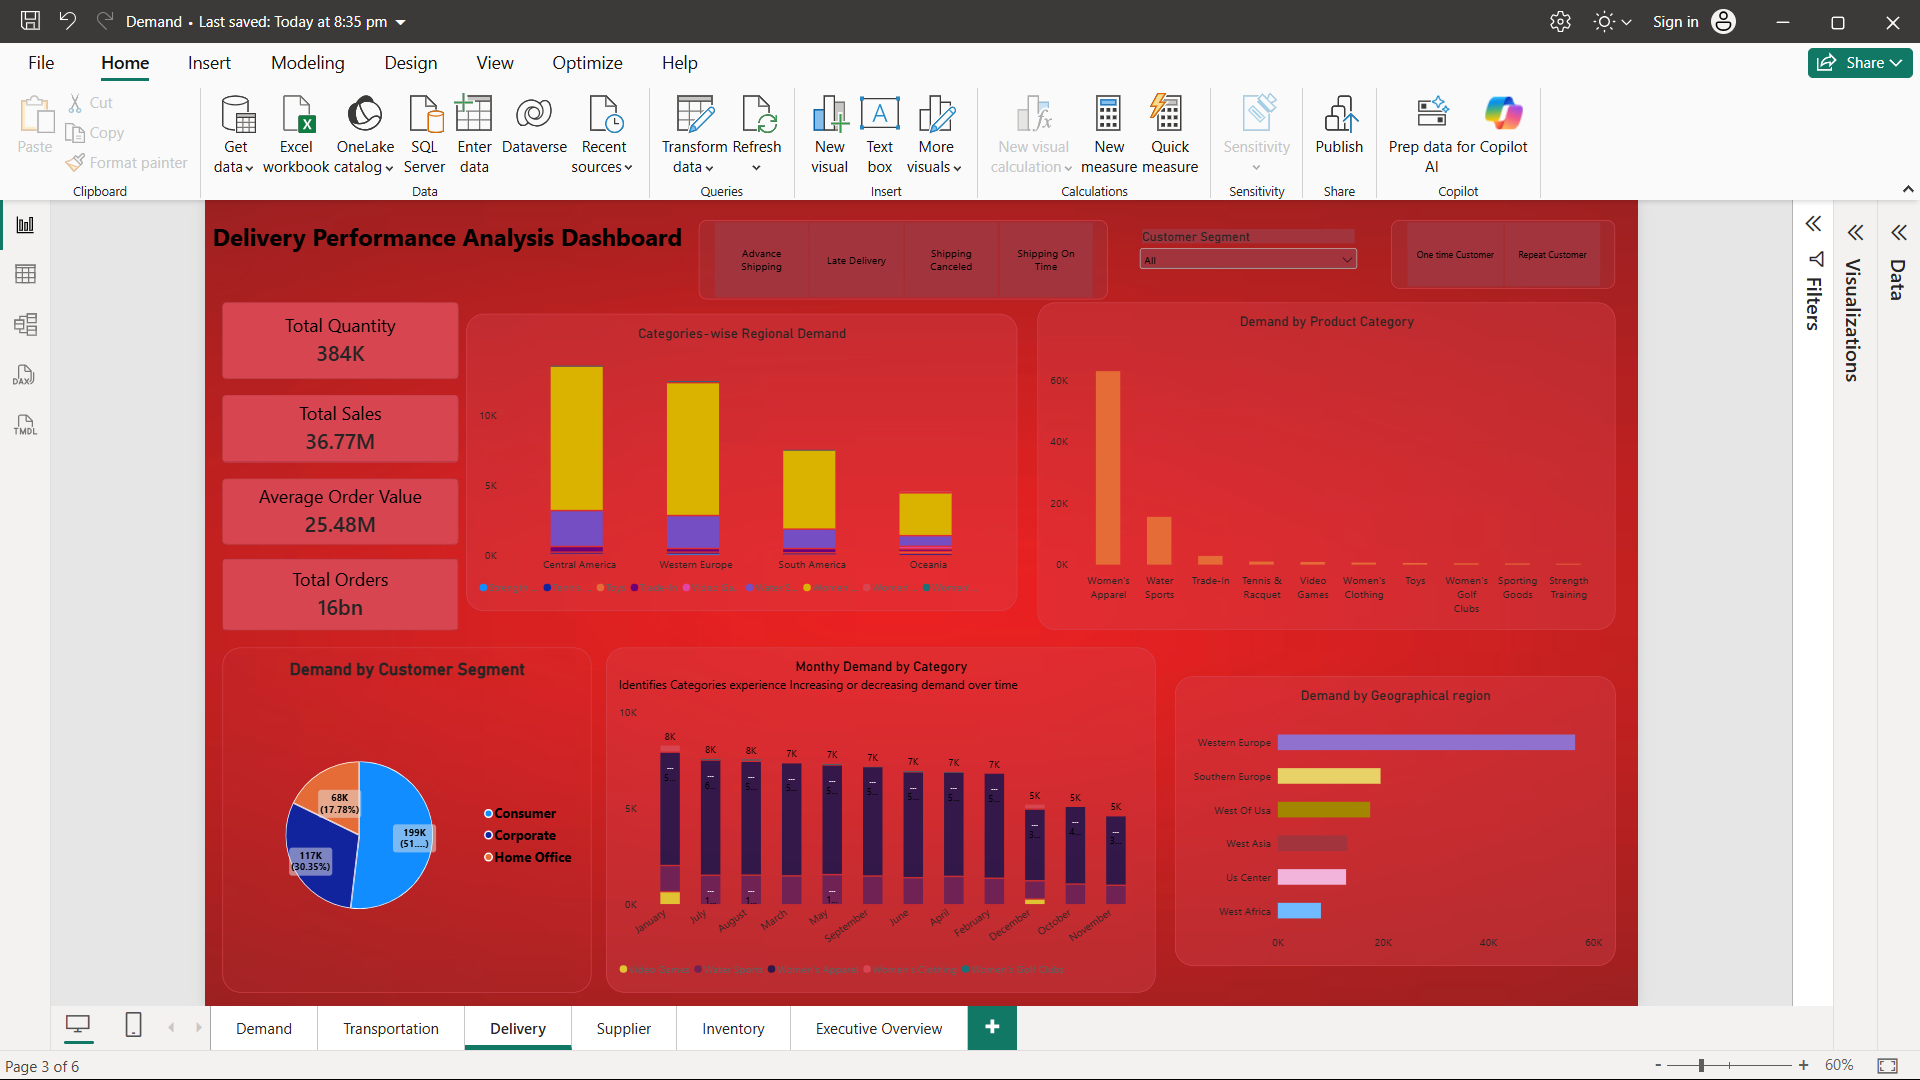

The dashboard page shown, as its layout file describes it:
{"tool":"powerbi","page":{"name":"Page 3","canvas":[1920,1080],"ordinal":2},"visuals":[{"type":"textbox","box":[10,26,678,88],"z":0},{"type":"clusteredColumnChart","title":"Demand by Product Category","fields":{"Category":["Cleaned_Supply_chain(csv).Category Name"],"Y":["Sum(Cleaned_Supply_chain(csv).Order Item Quantity)"]},"box":[1116,138,774,438],"z":1000},{"type":"barChart","title":"Demand by Geographical region","fields":{"Category":["Cleaned_Supply_chain(csv).Order Region"],"Y":["Sum(Cleaned_Supply_chain(csv).Order Item Quantity)"]},"box":[1300,638,590,388],"z":2000},{"type":"pieChart","title":"Demand by Customer Segment","fields":{"Category":["Cleaned_Supply_chain(csv).Customer Segment"],"Y":["Sum(Cleaned_Supply_chain(csv).Order Item Quantity)"]},"box":[24,600,494,462],"z":3000},{"type":"columnChart","title":"Categories-wise Regional Demand","fields":{"Category":["Cleaned_Supply_chain(csv).Order Region"],"Series":["Cleaned_Supply_chain(csv).Category Name"],"Y":["Sum(Cleaned_Supply_chain(csv).Order Item Quantity)"]},"box":[350,152,738,398],"z":4000},{"type":"columnChart","title":"Monthy Demand by Category","fields":{"Category":["Cleaned_Supply_chain(csv).Order Month Name"],"Series":["Cleaned_Supply_chain(csv).Category Name"],"Y":["Sum(Cleaned_Supply_chain(csv).Order Item Quantity)"]},"box":[538,600,736,462],"z":5000},{"type":"cardVisual","fields":{"Data":["Sum(Cleaned_Supply_chain(csv).Sales)"]},"box":[24,262,316,90],"z":6000},{"type":"cardVisual","fields":{"Data":["Sum(Cleaned_Supply_chain(csv).Order Item Id)"]},"box":[24,480,316,96],"z":7000},{"type":"cardVisual","fields":{"Data":["Sum(Cleaned_Supply_chain(csv).Order Item Quantity)"]},"box":[24,138,316,102],"z":8000},{"type":"cardVisual","fields":{"Data":["Sum(Cleaned_Supply_chain(csv).Order Item Product Price)"]},"box":[24,374,316,88],"z":9000},{"type":"slicer","fields":{"Values":["DeliveryPerformanceAnalysis.Delivery Status"]},"box":[662,26,548,106],"z":10000},{"type":"slicer","fields":{"Values":["Cleaned_Supply_chain(csv).Customer Segment"]},"box":[1247,29,301,87],"z":10001},{"type":"slicer","fields":{"Values":["Cleaned_Supply_chain(csv).Customer Purchase Type"]},"box":[1590,26,300,92],"z":10002}]}

Visuals, with their boxes on the page's 1920x1080 design canvas (x1, y1, x2, y2). These are canvas units, not pixel positions in the 1920x1080 screenshot, which may show the page scaled, cropped or inside an application window:
textbox: bbox=(10, 26, 688, 114)
"Demand by Product Category" clusteredColumnChart: bbox=(1116, 138, 1890, 576)
"Demand by Geographical region" barChart: bbox=(1300, 638, 1890, 1026)
"Demand by Customer Segment" pieChart: bbox=(24, 600, 518, 1062)
"Categories-wise Regional Demand" columnChart: bbox=(350, 152, 1088, 550)
"Monthy Demand by Category" columnChart: bbox=(538, 600, 1274, 1062)
cardVisual - Sum(Cleaned_Supply_chain(csv).Sales): bbox=(24, 262, 340, 352)
cardVisual - Sum(Cleaned_Supply_chain(csv).Order Item Id): bbox=(24, 480, 340, 576)
cardVisual - Sum(Cleaned_Supply_chain(csv).Order Item Quantity): bbox=(24, 138, 340, 240)
cardVisual - Sum(Cleaned_Supply_chain(csv).Order Item Product Price): bbox=(24, 374, 340, 462)
slicer - DeliveryPerformanceAnalysis.Delivery Status: bbox=(662, 26, 1210, 132)
slicer - Cleaned_Supply_chain(csv).Customer Segment: bbox=(1247, 29, 1548, 116)
slicer - Cleaned_Supply_chain(csv).Customer Purchase Type: bbox=(1590, 26, 1890, 118)
